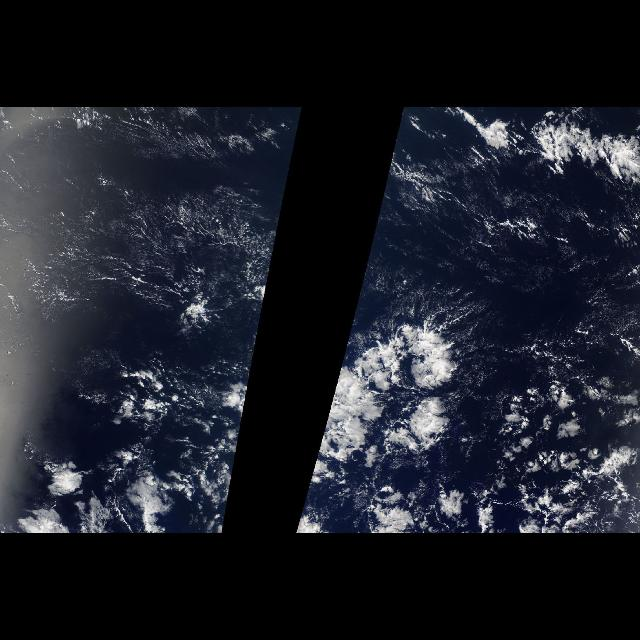Flower: (296, 298, 636, 530), (4, 298, 266, 530)
Sugar: (6, 134, 298, 330), (346, 134, 630, 330)
